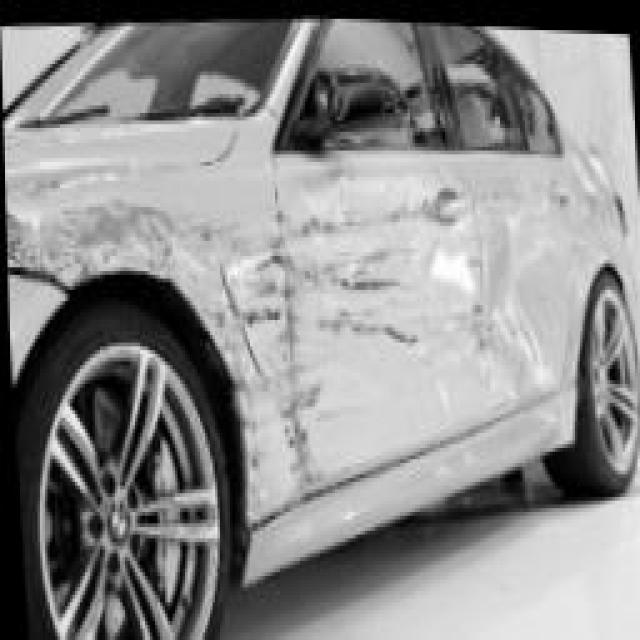Door: (272, 143, 583, 491)
Fender: (2, 158, 274, 354)
